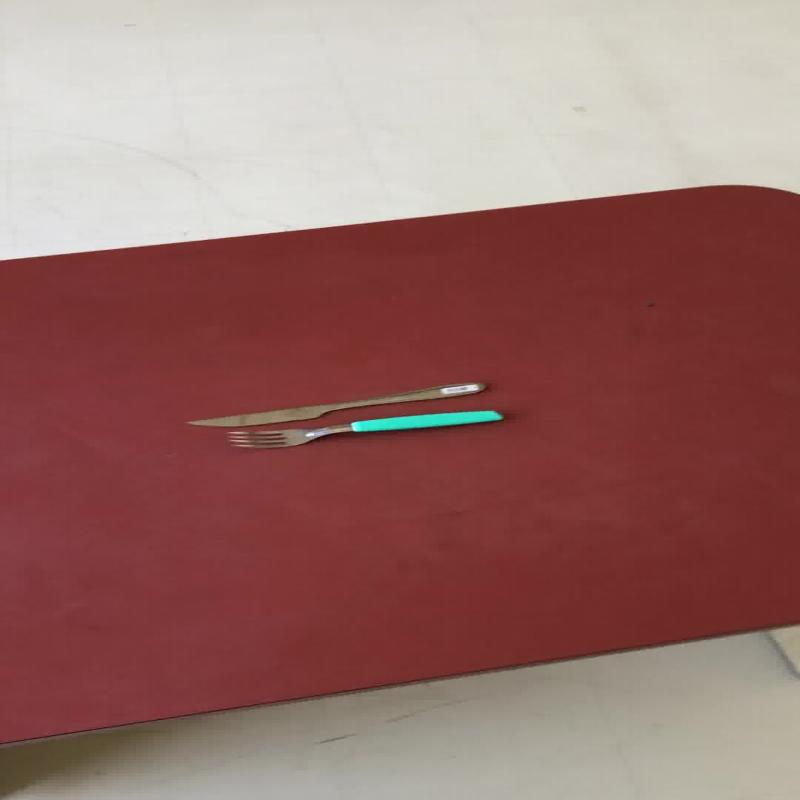fork: (224, 408, 504, 449)
knife: (184, 380, 486, 428)
